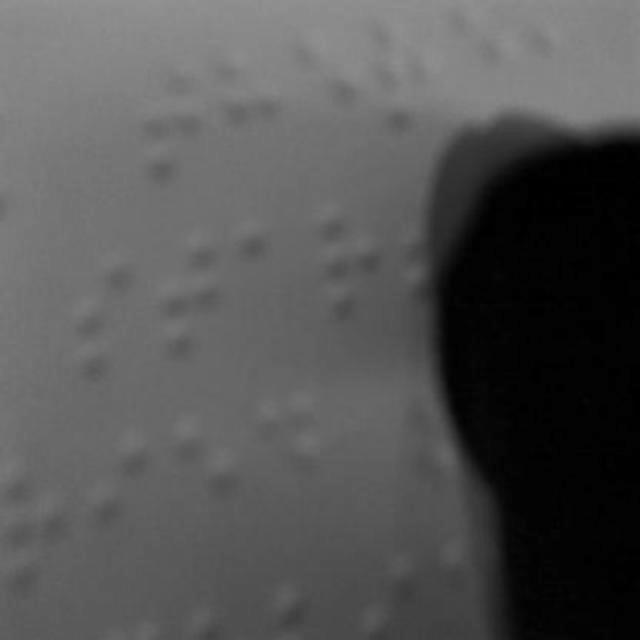braiile: (93, 430, 163, 578), (3, 454, 75, 592), (217, 35, 289, 171), (176, 412, 246, 550), (255, 386, 321, 526), (323, 198, 387, 338), (146, 54, 210, 186), (238, 208, 300, 342), (160, 229, 222, 355), (76, 257, 136, 387)
